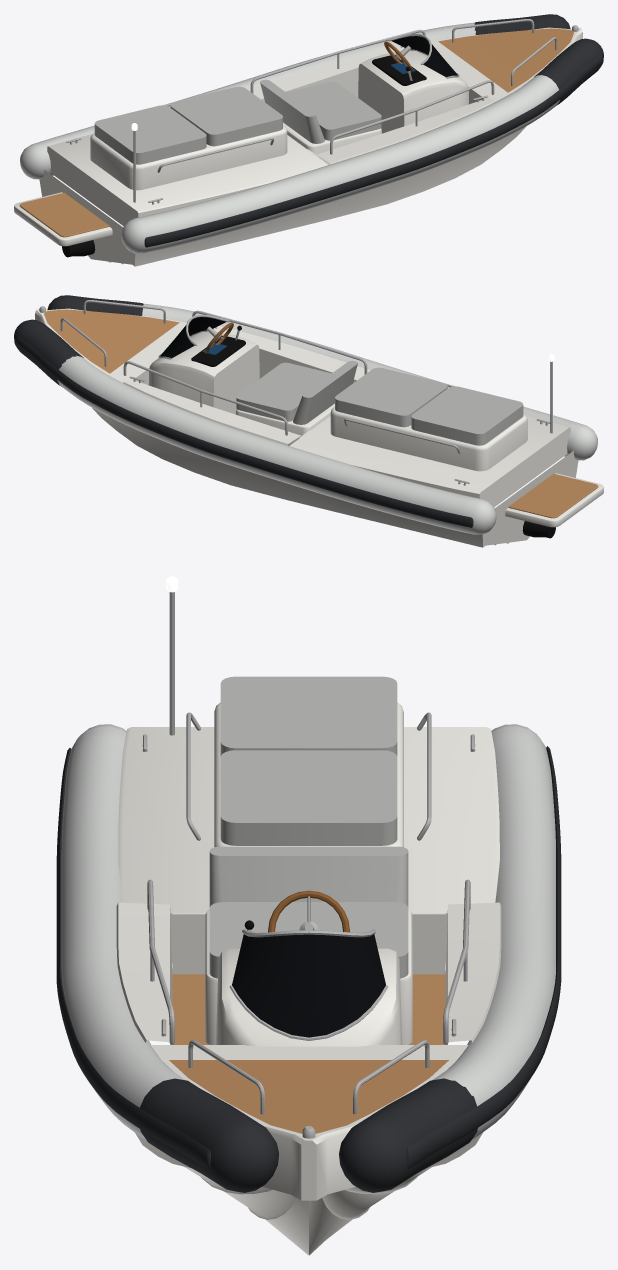
File: boot_tender.glb
3 renders of one model, top to bottom at view 1: azimuth 30°, elevation 25°; view 2: azimuth 150°, elevation 25°; view 3: azimuth 270°, elevation 25°, orthographic. The views are drawn at different scales.
Parts seen in each view (by area): view 1: Tender; view 2: Tender; view 3: Tender.
Boxes of the visible parts, bbox=[...] form: Tender: bbox=[14, 14, 603, 266]; Tender: bbox=[14, 295, 603, 547]; Tender: bbox=[56, 576, 561, 1255].
Size of the model in its own units: 5.75 by 1.59 by 2.29.
